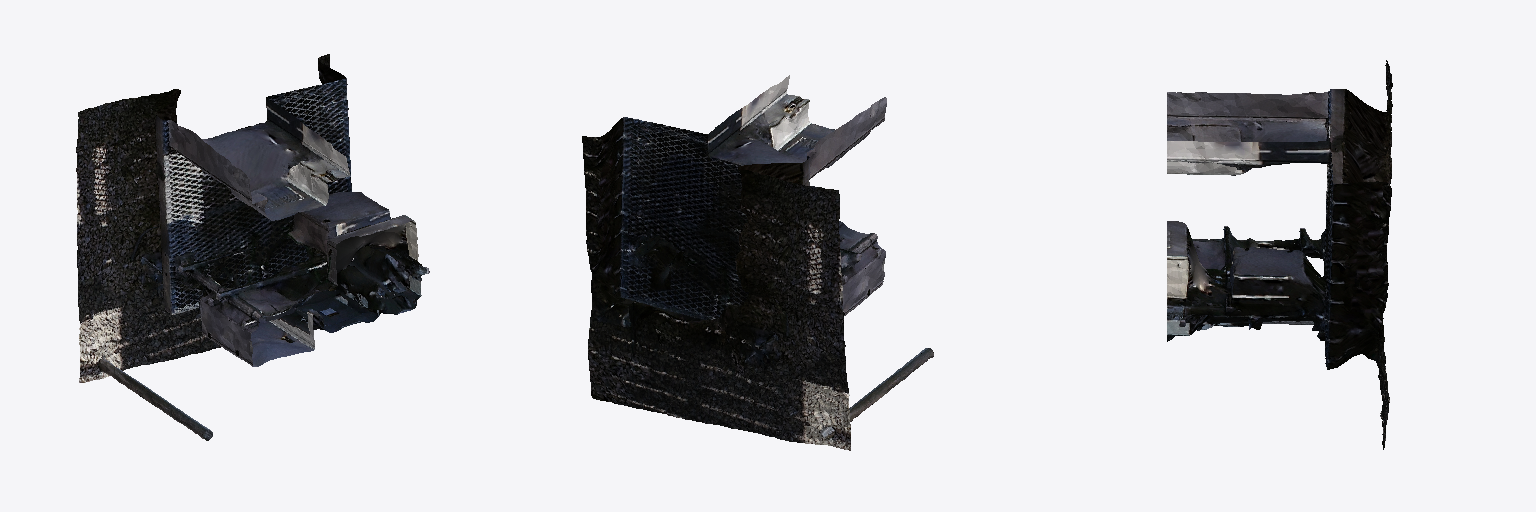
3 views of the same model, side by side, from view 1: azimuth 30°, elevation 25°; view 2: azimuth 150°, elevation 25°; view 3: azimuth 270°, elevation 25° (orthographic).
Size of the model in its own units: 1.98 by 1.97 by 1.49.
2 materials, 1 textured.